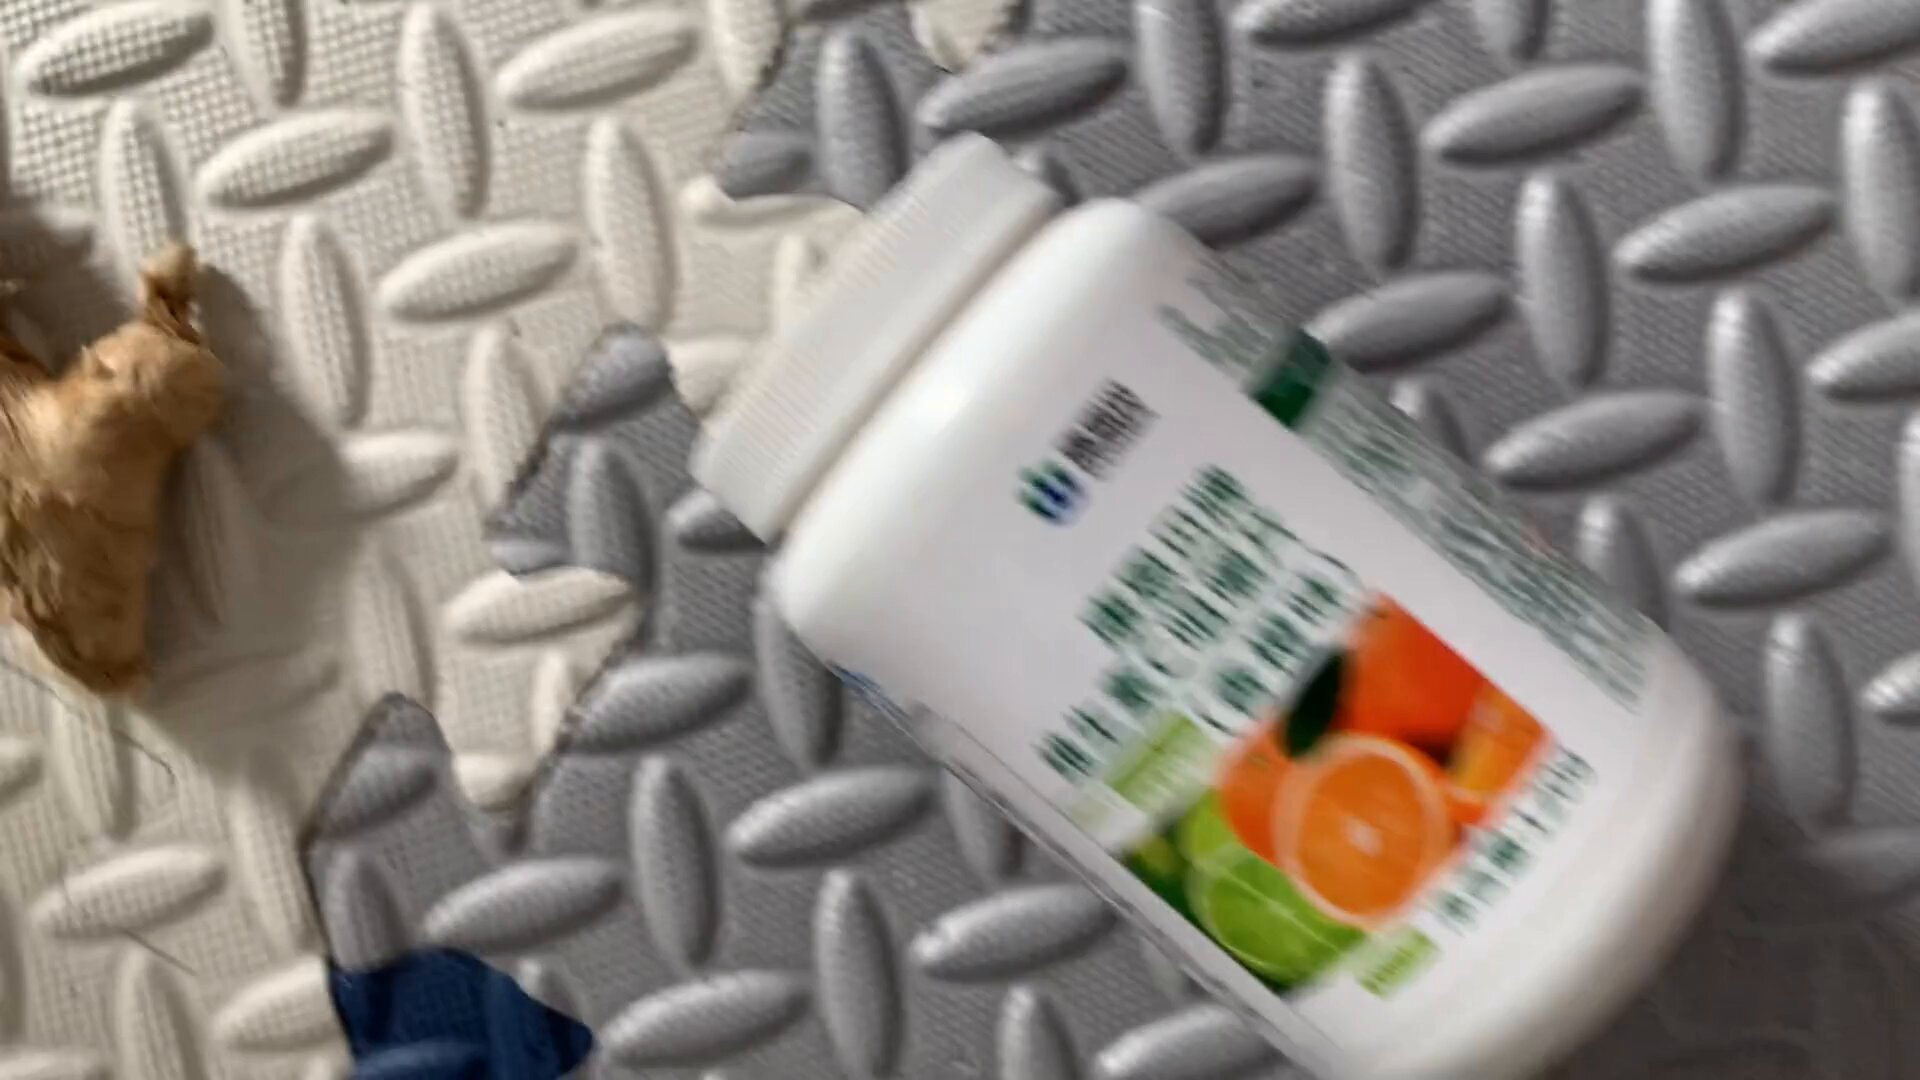可回收塑料: (683, 127, 1760, 1080)
